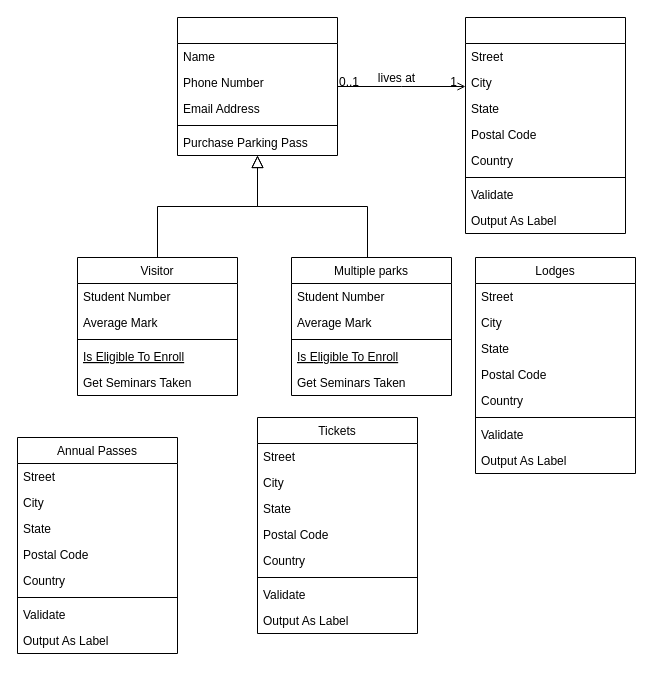
Some shapes in this 653 by 674 pixel diagram are drawn without their labels. The shapes that lost their labels are listed below. From the top down, each one's box as (x1, y1, x2, y2) in pixels, then its label:
(176, 16, 338, 156): User
(464, 16, 626, 234): Ranger
